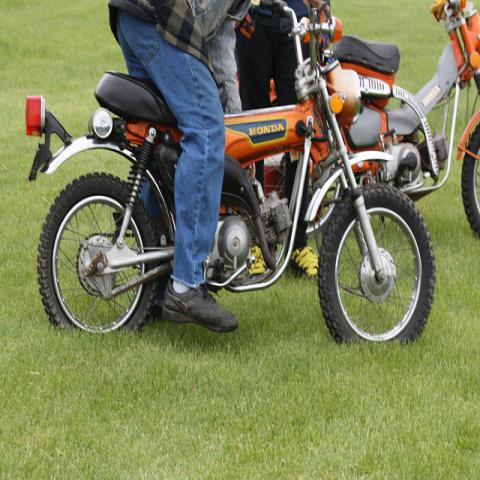motorcycle: (28, 4, 434, 348), (334, 4, 480, 236)
